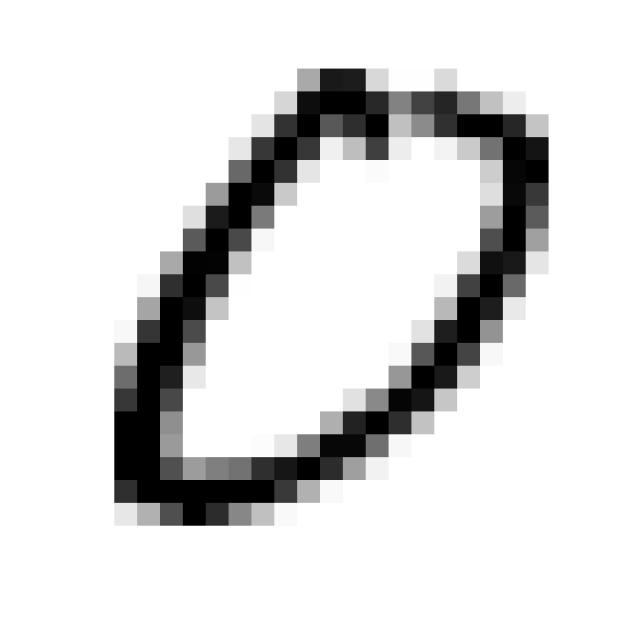5 -five-: (96, 48, 563, 537)
